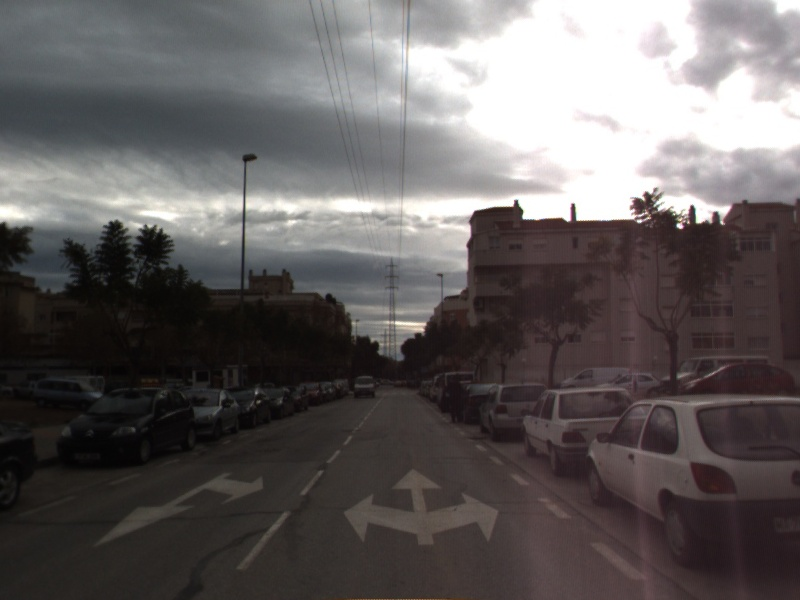STRAIGHT_LEFT_RIGHT: (340, 466, 501, 547)
